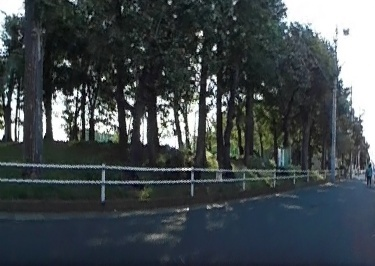person: (364, 162, 372, 184), (373, 162, 375, 185)
